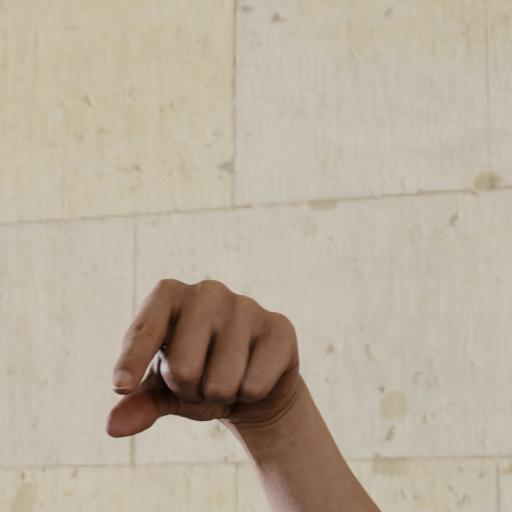Q: (106, 267, 318, 454)
